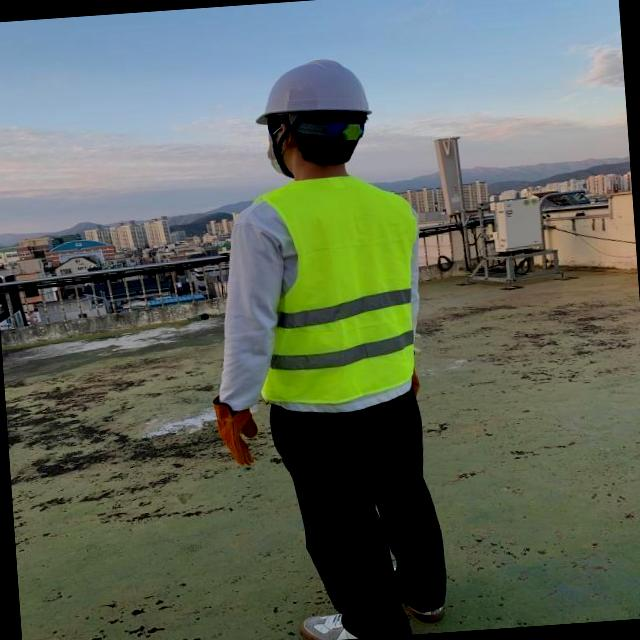vest: (248, 170, 430, 407)
